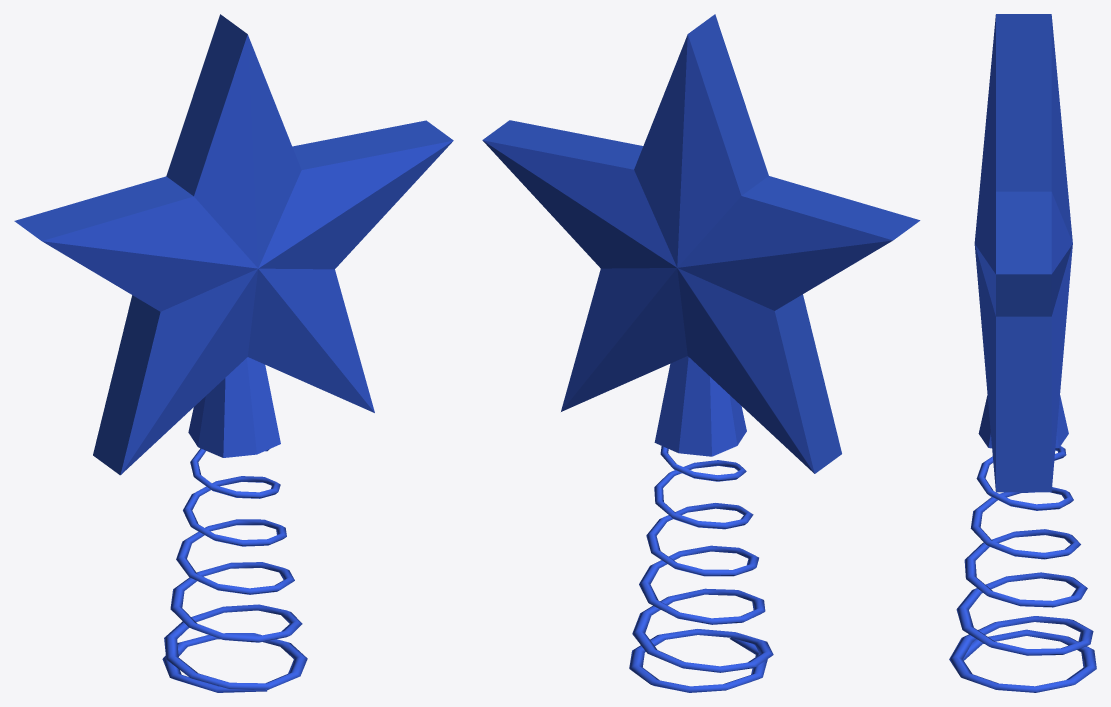
The model's file is Starn3.fbx.
3 views of the same model, side by side, from view 1: azimuth 30°, elevation 25°; view 2: azimuth 150°, elevation 25°; view 3: azimuth 270°, elevation 25° (orthographic).
Visible parts, largest first — view 1: Starn3; view 2: Starn3; view 3: Starn3.
Boxes of the visible parts, box(x1,y1,x2,y2) form: Starn3: box(14, 14, 453, 692); Starn3: box(482, 14, 920, 692); Starn3: box(949, 14, 1096, 692).
Size of the model in its own units: 83.77 by 125 by 25.69.
